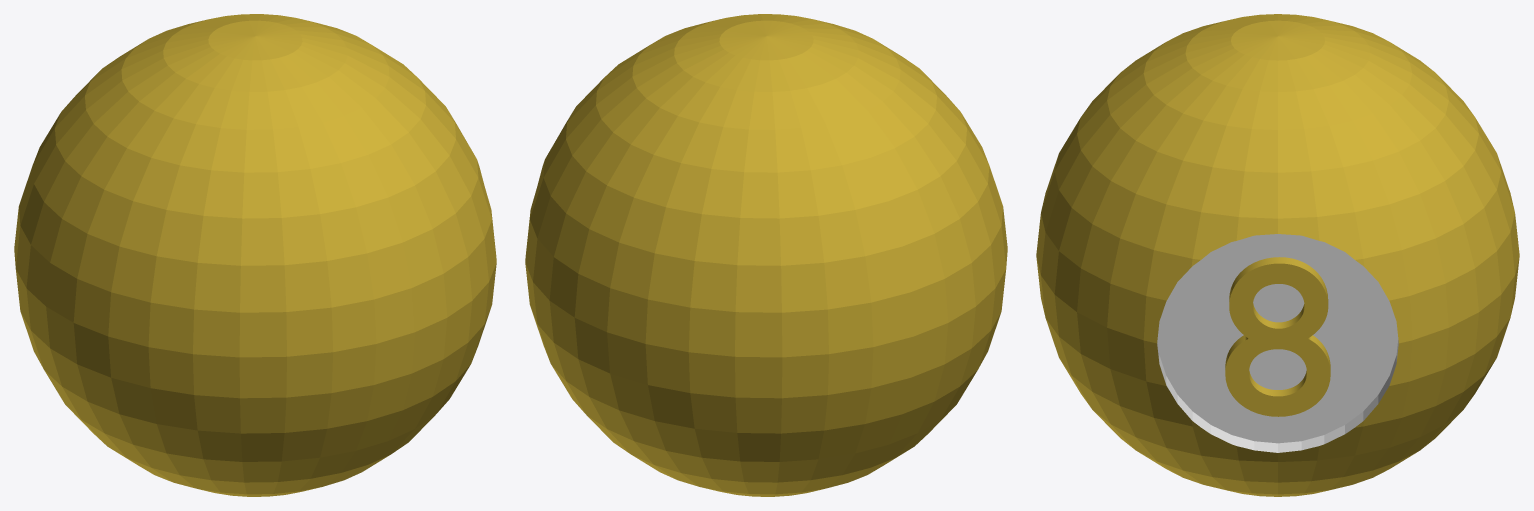
The model's file is player_gold.glb.
The picture shows the model from 3 angles, left to right: view 1: azimuth 30°, elevation 25°; view 2: azimuth 150°, elevation 25°; view 3: azimuth 270°, elevation 25°; orthographic projection.
Visible parts, largest first — view 1: Sphere; view 2: Sphere; view 3: Sphere.
Boxes of the visible parts, x1,y1,x2,y2 form: Sphere: (14,14,496,496); Sphere: (525,14,1007,496); Sphere: (1036,14,1519,496).
Bounding box in the file's own units: 0.9322 × 1 × 1.
